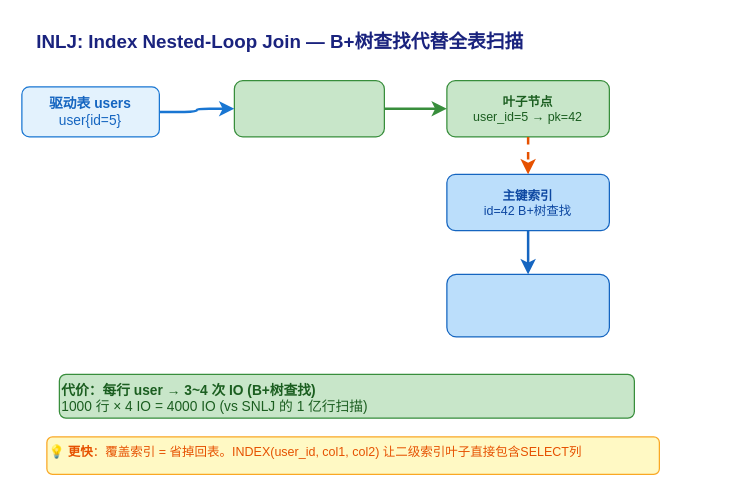
This 731x496 diagram has some shape labels left out. The shapes that lost their labels are listed below. From the top down, each one's centre as x and y in pixels, then its label:
At point 308,108: "orders.user_id B+树索引".
At point 527,305: "回表拿到完整行 order{id=42, user_id=5,$99}".
